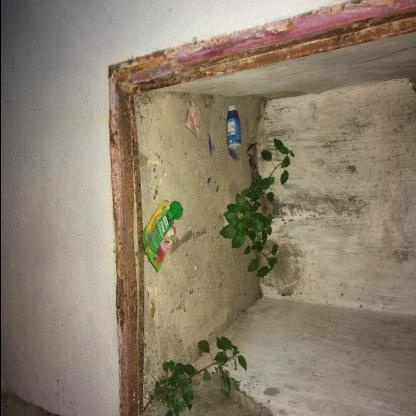plastik: (142, 201, 184, 274), (226, 106, 242, 151)
